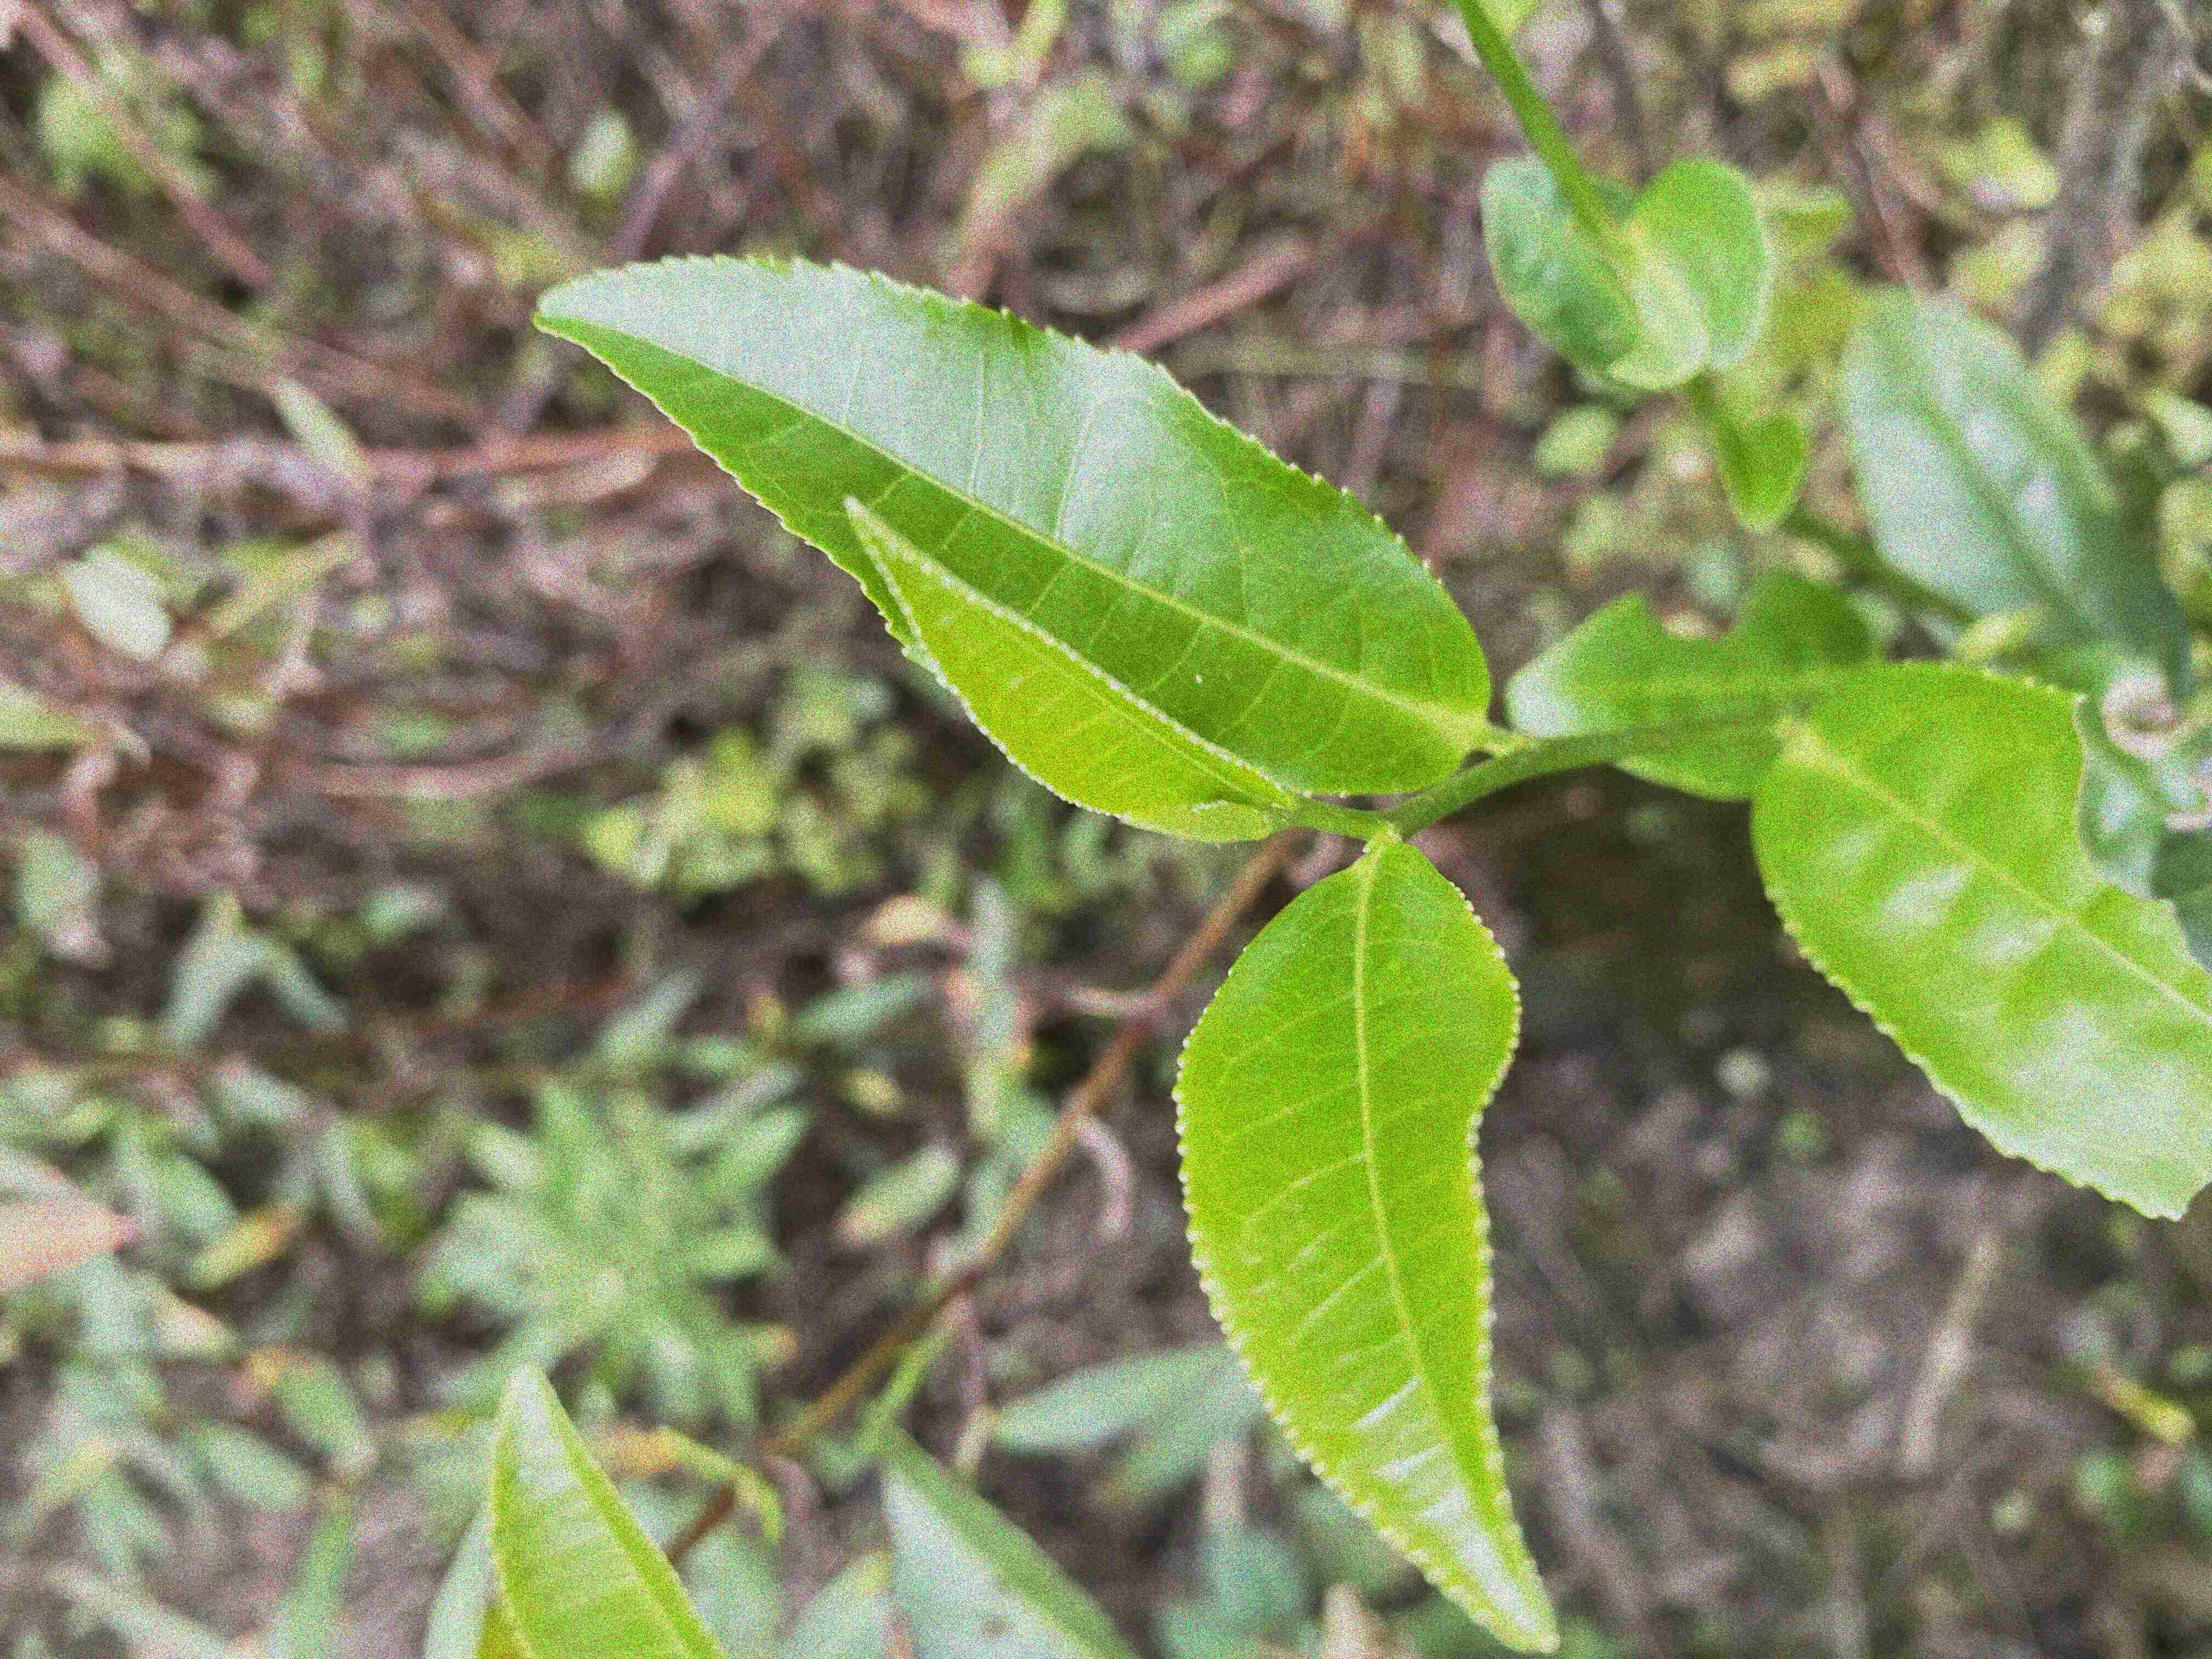chihuo_high: (1747, 657, 2210, 1223)
healthy: (531, 253, 1489, 793), (1167, 838, 1564, 1652), (841, 491, 1298, 826)
